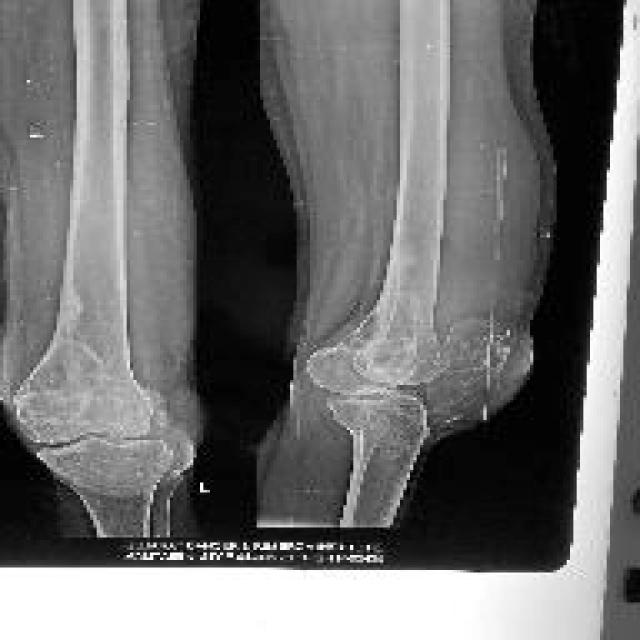bone-cancer: (409, 325, 507, 430)
